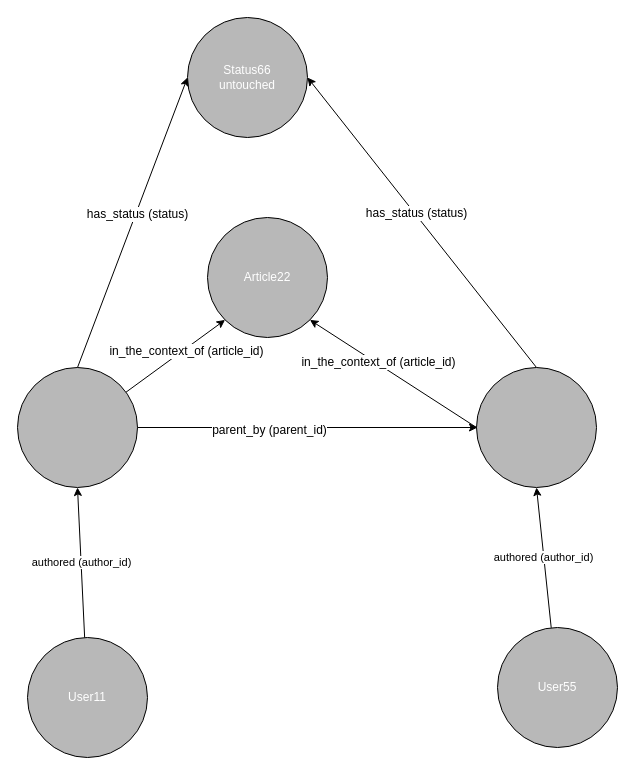
The diagram is 635 pixels wide and 775 high, and some of its shapes have lost their labels. The centre of each missing label's shape, as x and y in pixels:
"Comment33 untouched" goes at point (536, 427).
"Comment44 untouched" goes at point (77, 427).
